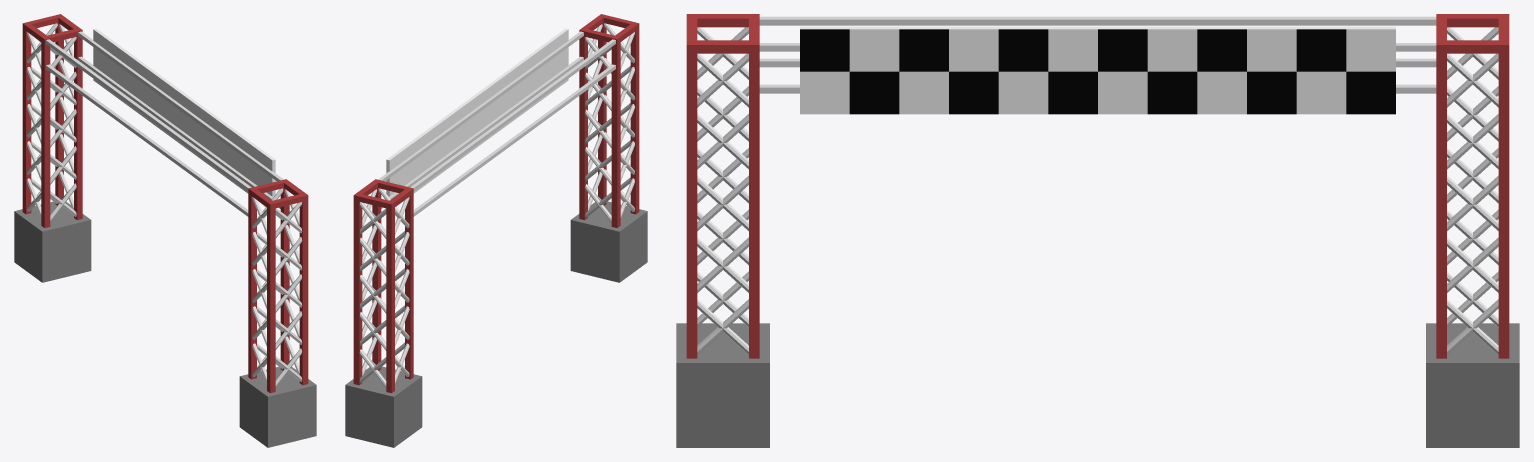
Rendered from Finishline_002.glb.
The picture shows the model from 3 angles, left to right: view 1: azimuth 30°, elevation 25°; view 2: azimuth 150°, elevation 25°; view 3: azimuth 270°, elevation 25°; orthographic projection. The views are drawn at different scales.
Parts seen in each view (by area): view 1: Finishline_001; view 2: Finishline_001; view 3: Finishline_001.
Part boxes in pixels (x1,y1,x2,y2): Finishline_001: (14,14,316,447); Finishline_001: (345,14,647,447); Finishline_001: (676,14,1519,447).
Bounding box in the file's own units: 2 × 9.79 × 18.
